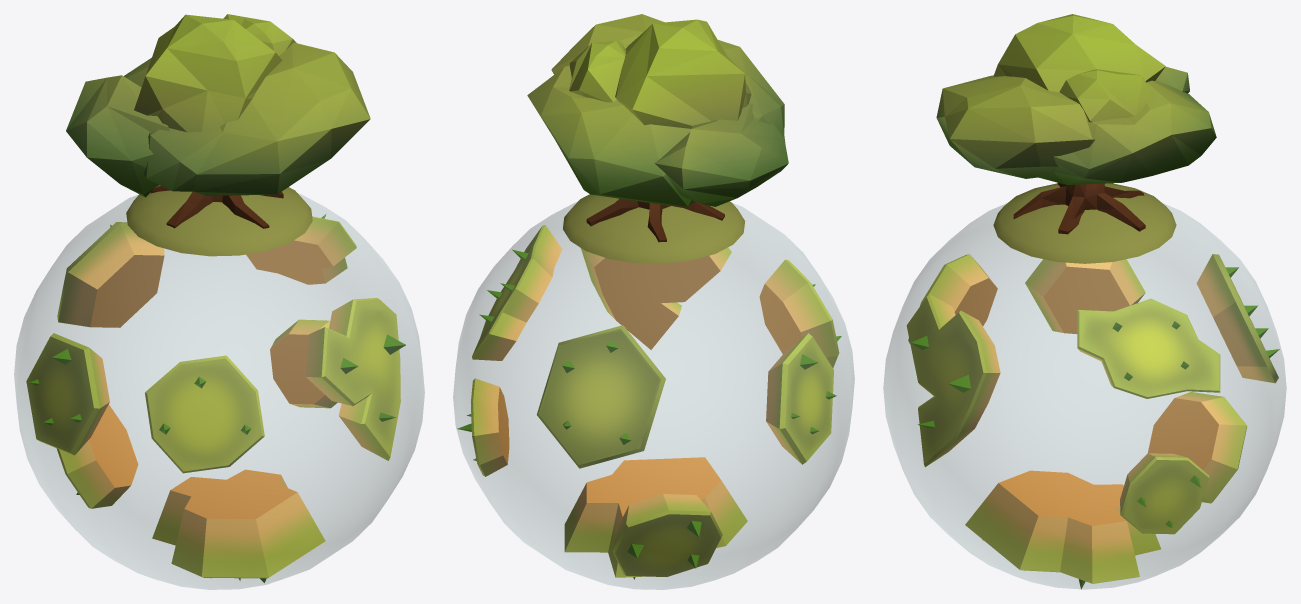
Rendered from wakusei_01.fbx.
3 views of the same model, side by side, from view 1: azimuth 30°, elevation 25°; view 2: azimuth 150°, elevation 25°; view 3: azimuth 270°, elevation 25° (orthographic). The views are drawn at different scales.
Visible parts, largest first — view 1: polySurface1, pCube1, pPlane4, pSphere2, pPlane15, pPlane7, polySurface2, pPlane12, pSphere3, pPlane16, pPlane6, pPlane8 (+3 smaller); view 2: polySurface1, pPlane12, pCube2, pSphere2, pPlane4, pSphere3, polySurface2, pPlane7, pPlane6, pPlane16, pPlane8, pPlane15 (+4 smaller); view 3: polySurface1, pPlane4, pCube1, pPlane8, pPlane7, pCube2, polySurface2, pSphere2, pPlane6, pPlane16, pPlane14, pPlane12 (+4 smaller).
Boxes of the visible parts, x1=… form: polySurface1: x1=14, y1=193, x2=424, y2=589; pCube1: x1=144, y1=42, x2=370, y2=195; pPlane4: x1=152, y1=469, x2=325, y2=578; pSphere2: x1=134, y1=14, x2=282, y2=132; pPlane15: x1=145, y1=355, x2=264, y2=473; pPlane7: x1=305, y1=298, x2=400, y2=460; polySurface2: x1=126, y1=185, x2=312, y2=256; pPlane12: x1=57, y1=222, x2=164, y2=327; pSphere3: x1=66, y1=75, x2=169, y2=197; pPlane16: x1=26, y1=333, x2=109, y2=455; pPlane6: x1=56, y1=404, x2=138, y2=508; pPlane8: x1=246, y1=216, x2=356, y2=284; polySurface1: x1=453, y1=202, x2=854, y2=589; pPlane12: x1=536, y1=325, x2=665, y2=468; pCube2: x1=527, y1=65, x2=693, y2=206; pSphere2: x1=615, y1=19, x2=751, y2=128; pPlane4: x1=564, y1=457, x2=747, y2=577; pSphere3: x1=654, y1=103, x2=788, y2=206; polySurface2: x1=563, y1=194, x2=745, y2=263; pPlane7: x1=581, y1=247, x2=731, y2=349; pPlane6: x1=612, y1=494, x2=722, y2=576; pPlane16: x1=766, y1=333, x2=833, y2=464; pPlane8: x1=472, y1=225, x2=562, y2=360; pPlane15: x1=759, y1=259, x2=839, y2=367; polySurface1: x1=883, y1=203, x2=1286, y2=589; pPlane4: x1=965, y1=470, x2=1160, y2=583; pCube1: x1=936, y1=75, x2=1095, y2=178; pPlane8: x1=1077, y1=298, x2=1220, y2=398; pPlane7: x1=906, y1=294, x2=1000, y2=467; pCube2: x1=1039, y1=80, x2=1216, y2=184; polySurface2: x1=993, y1=183, x2=1176, y2=263; pSphere2: x1=993, y1=14, x2=1165, y2=92; pPlane6: x1=1148, y1=392, x2=1247, y2=503; pPlane16: x1=1025, y1=259, x2=1145, y2=333; pPlane14: x1=1120, y1=453, x2=1209, y2=534; pPlane12: x1=1196, y1=254, x2=1278, y2=383.
Size of the model in its own units: 12.49 by 18.59 by 12.49.
